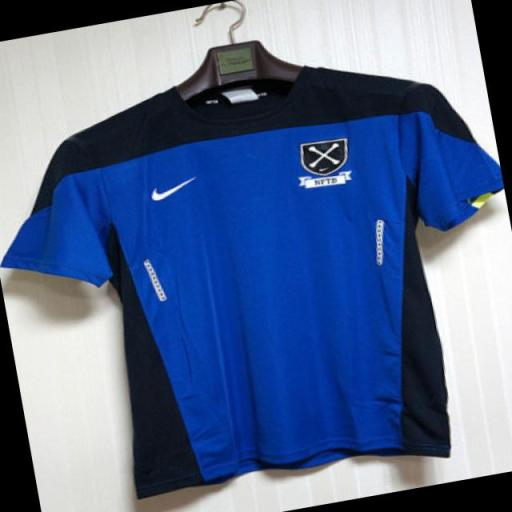Nike: (142, 171, 205, 204)
